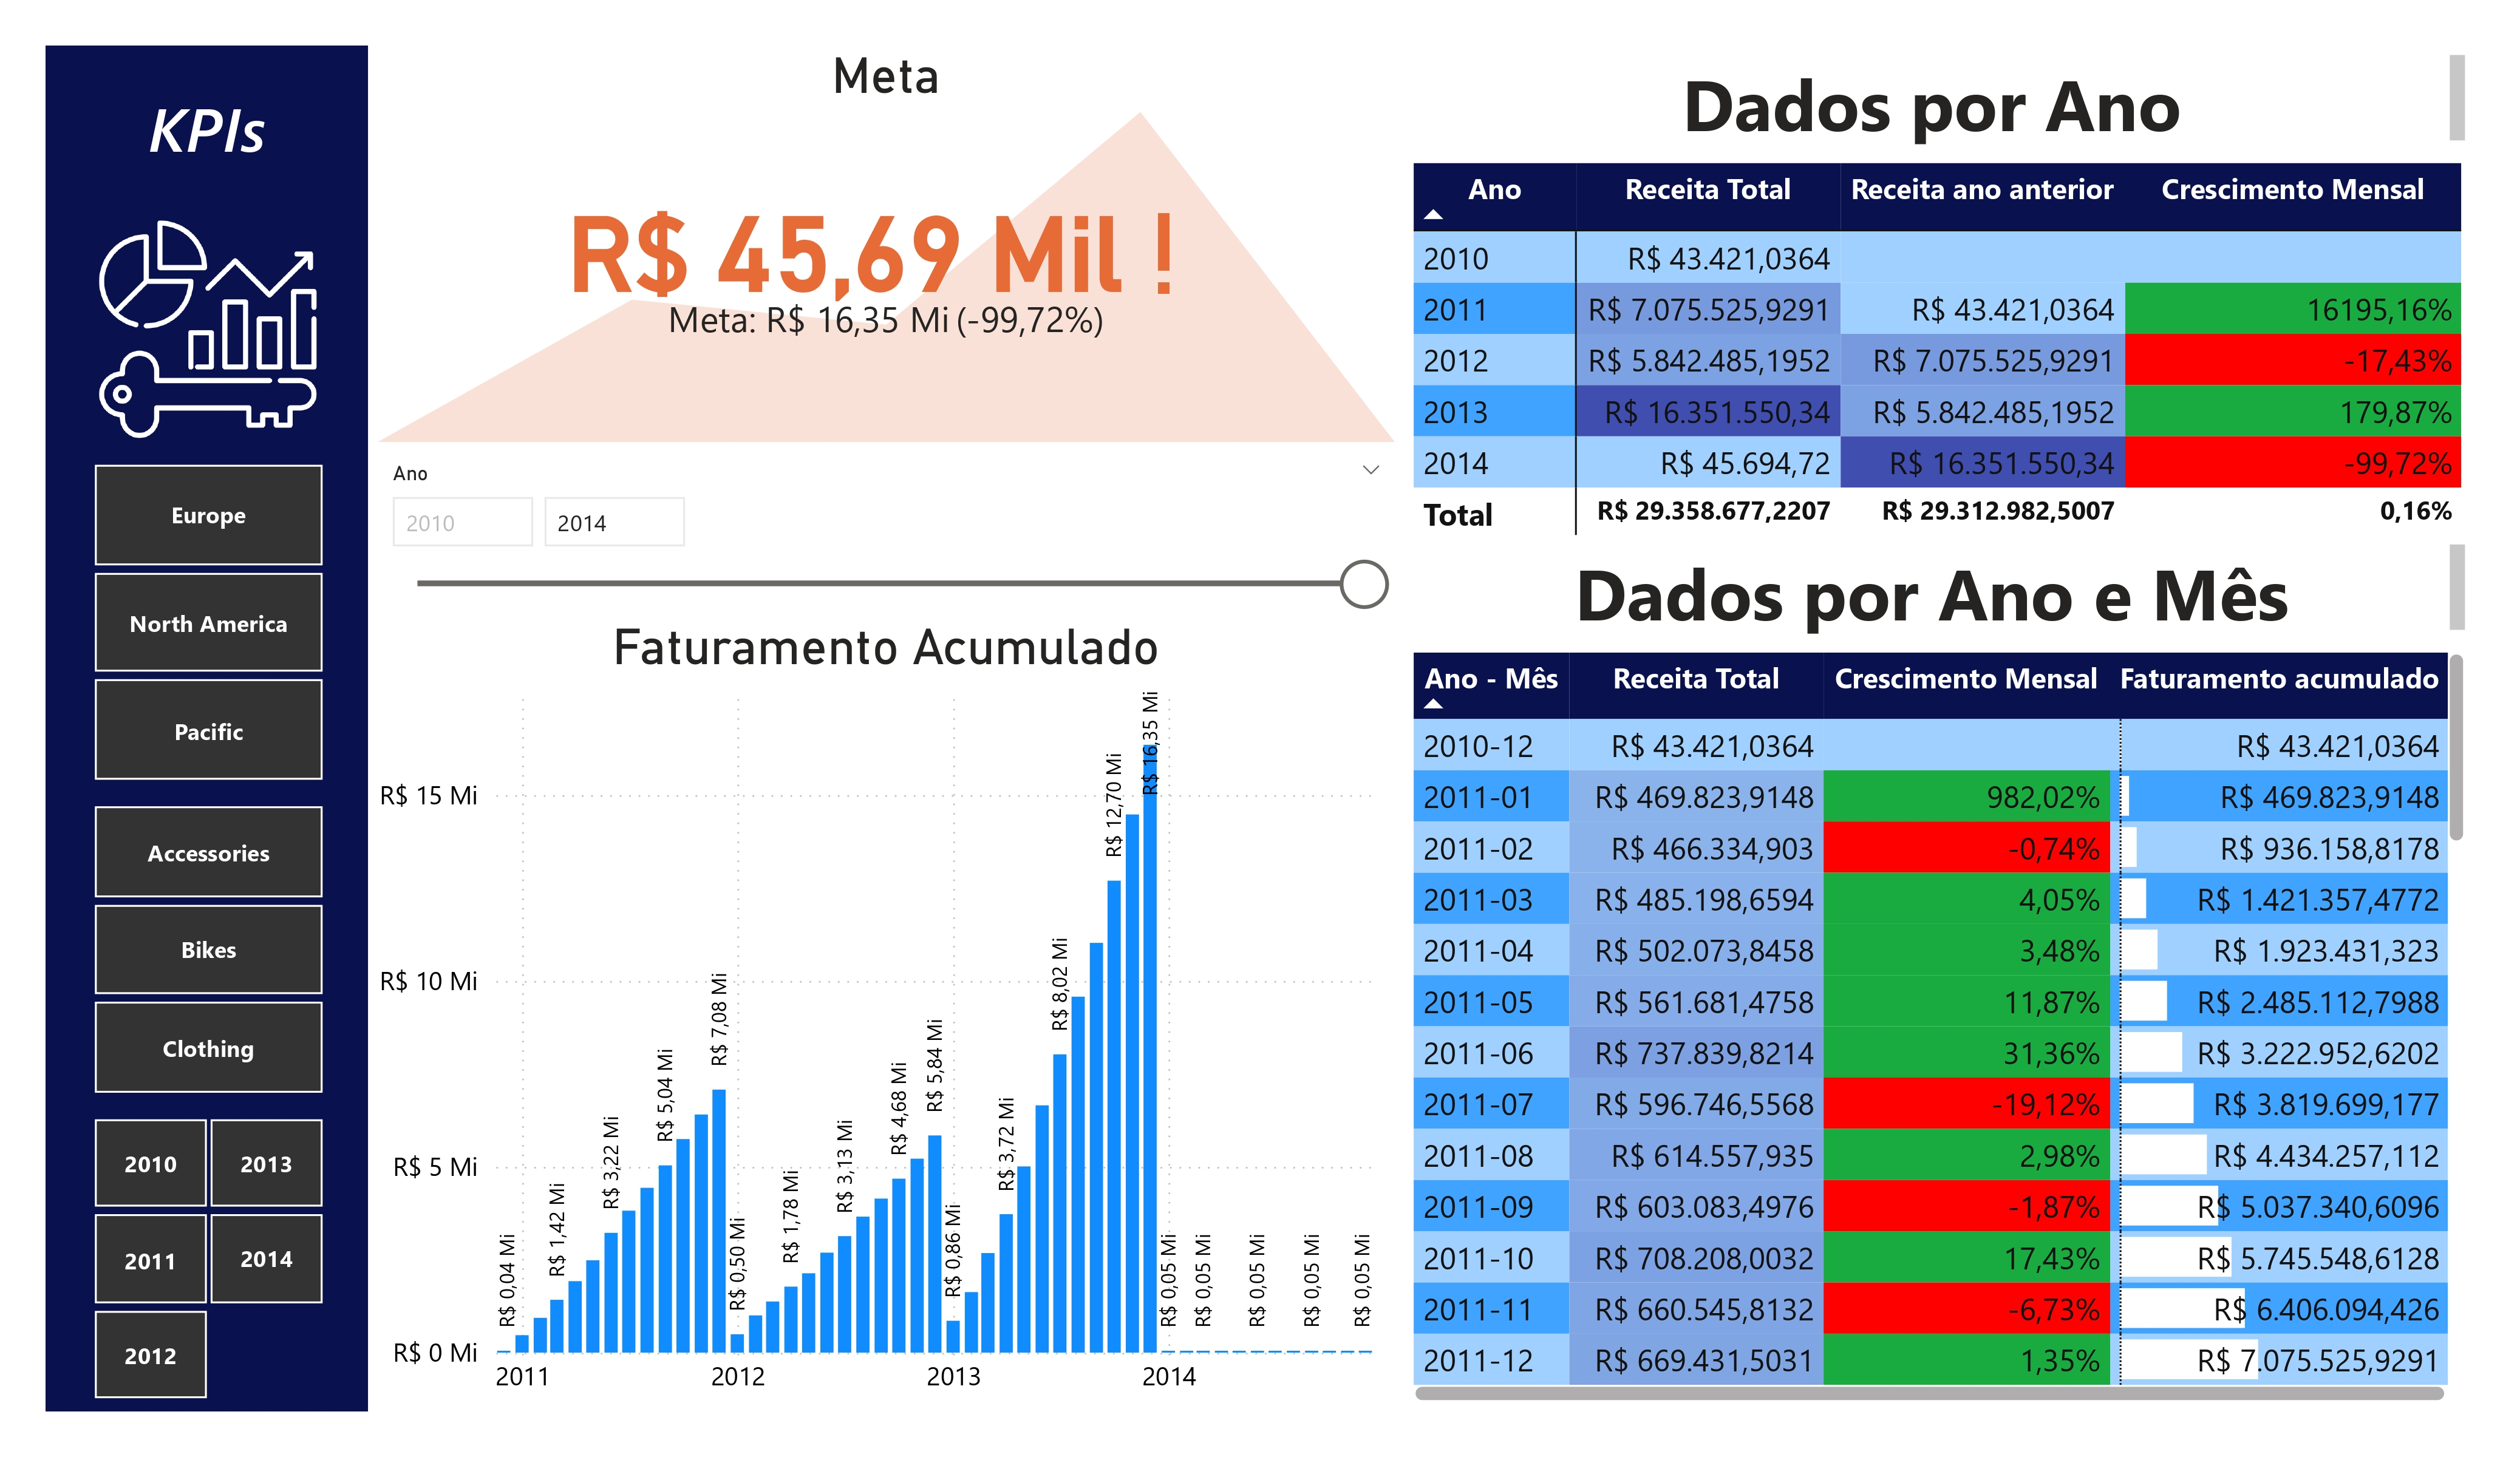

This screenshot's page, from the dashboard's own definition file:
{"tool":"powerbi","page":{"name":"KPI + Inteligência de Tempo","canvas":[1280,720],"ordinal":3},"visuals":[{"type":"shape","box":[0,0,169.8,720],"z":0},{"type":"textbox","box":[0,16.1,169.8,68.8],"z":1000},{"type":"image","box":[0,84.9,169.8,128.8],"z":2000},{"type":"slicer","fields":{"Values":["BaseAW.EnglishProductCategoryName"]},"box":[0,393.7,169.8,165.4],"z":3000},{"type":"slicer","fields":{"Values":["Calendario.Ano"]},"box":[0,559,169.8,161],"z":4000},{"type":"slicer","fields":{"Values":["BaseAW.SalesTerritoryGroup"]},"box":[0,213.7,169.8,180],"z":5000},{"type":"pivotTable","fields":{"Values":["BaseAW.Receita Total","BaseAW.Acumulado ano anterior","BaseAW.Lucro"],"Rows":["Calendario.Ano"]},"box":[715.6,57.1,564.9,213.7],"z":6000},{"type":"pivotTable","fields":{"Values":["BaseAW.Receita Total","BaseAW.% de Crescimento mes","BaseAW.Faturamento acumulado"],"Rows":["Calendario.Inicio do mes"]},"box":[715.6,314.6,564.9,405.4],"z":7000},{"type":"kpi","title":"Meta","fields":{"Indicator":["BaseAW.Receita Total"],"TrendLine":["Calendario.Ano"],"Goal":["BaseAW.Receita ano anterior"]},"box":[169.8,0,545.9,213.7],"z":8000},{"type":"slicer","fields":{"Values":["Calendario.Ano"]},"box":[169.8,213.7,545.9,87.8],"z":9000},{"type":"columnChart","title":"Faturamento Acumulado","fields":{"Y":["BaseAW.Faturamento acumulado"],"Category":["Calendario.Inicio do mes"]},"box":[169.8,301.5,545.9,418.5],"z":10000},{"type":"textbox","box":[715.6,257.6,564.9,57.1],"z":11000},{"type":"textbox","box":[715.6,0,564.9,57.1],"z":12000}]}

Visuals, with their boxes on the page's 1280x720 design canvas (x1, y1, x2, y2). These are canvas units, not pixel positions in the 2520x1457 screenshot, which may show the page scaled, cropped or inside an application window:
shape: box(0, 0, 170, 720)
textbox: box(0, 16, 170, 85)
image: box(0, 85, 170, 214)
slicer - BaseAW.EnglishProductCategoryName: box(0, 394, 170, 559)
slicer - Calendario.Ano: box(0, 559, 170, 720)
slicer - BaseAW.SalesTerritoryGroup: box(0, 214, 170, 394)
pivotTable - BaseAW.Receita Total x BaseAW.Acumulado ano anterior: box(716, 57, 1280, 271)
pivotTable - BaseAW.Receita Total x BaseAW.% de Crescimento mes: box(716, 315, 1280, 720)
"Meta" kpi: box(170, 0, 716, 214)
slicer - Calendario.Ano: box(170, 214, 716, 302)
"Faturamento Acumulado" columnChart: box(170, 302, 716, 720)
textbox: box(716, 258, 1280, 315)
textbox: box(716, 0, 1280, 57)
